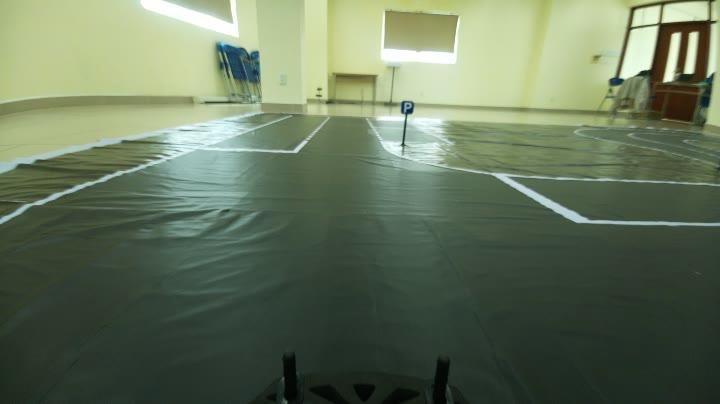parking: (395, 99, 422, 122)
